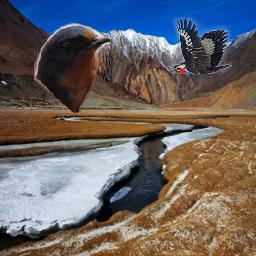Swallow: (34, 23, 112, 114)
Woodpecker: (168, 18, 233, 75)
